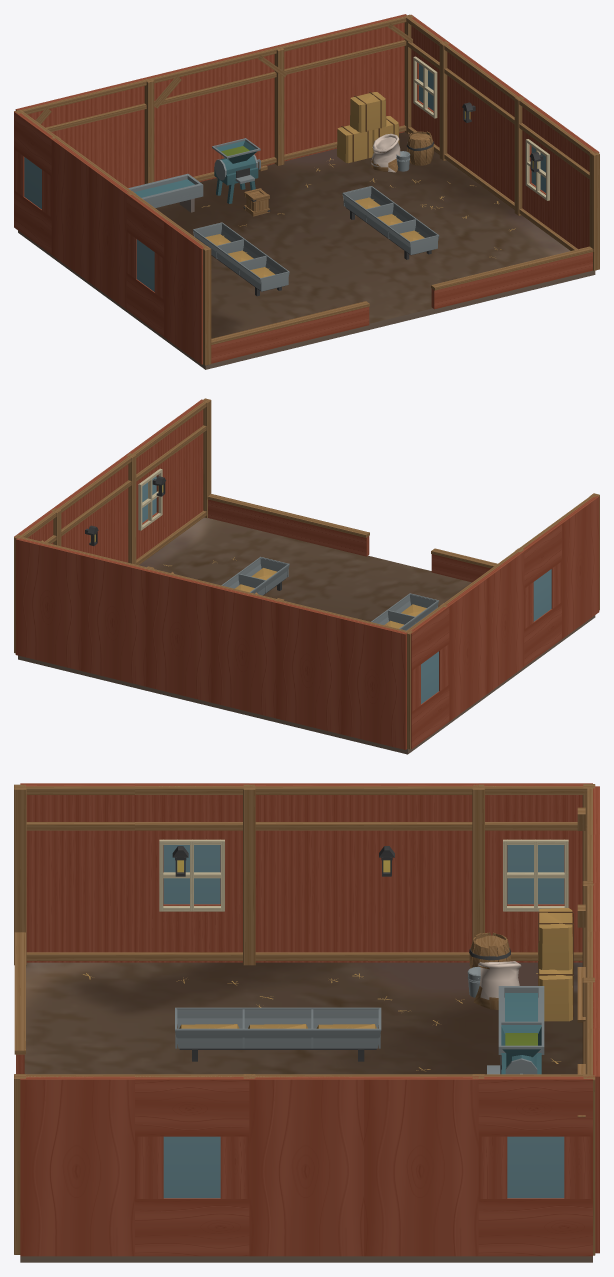
File: BarnInterior_Lv1.fbx
The picture shows the model from 3 angles, top to bottom: view 1: azimuth 30°, elevation 25°; view 2: azimuth 150°, elevation 25°; view 3: azimuth 270°, elevation 25°; orthographic projection. The views are drawn at different scales.
Parts seen in each view (by area): view 1: Lv1_Floor.001, Lv1_FrontCutaway.001, N01_Wall_2m.075, N01_Wall_2m.073, N01_Wall_2m.074, N01_Wall_2m.072, N01_Wall_2m.076, N01_Wall_2m.077, N01_Wall_2m.079, N01_Wall_2m.078, N01_WindowWall_2m.019, N01_WindowWall_2m.020 (+22 smaller); view 2: Lv1_Floor.001, N01_Wall_2m.071, N01_Wall_2m.075, N01_Wall_2m.073, N01_Wall_2m.072, N01_Wall_2m.076, N01_Wall_2m.074, Lv1_FrontCutaway.001, N01_Wall_2m.078, N01_WindowWall_2m.020, N01_Wall_2m.077, N01_Wall_2m.079 (+11 smaller); view 3: Lv1_Floor.001, N01_Wall_2m.081, N01_WindowWall_2m.021, N01_Wall_2m.082, N01_Wall_2m.080, N01_WindowWall_2m.022, N01_Wall_2m.077, N01_Wall_2m.078, N01_Wall_2m.079, N01_WindowWall_2m.019, N01_WindowWall_2m.020, FeedTrough_01.004 (+14 smaller).
Boxes of the visible parts, x1=… form: Lv1_Floor.001: x1=18, y1=132, x2=595, y2=369; Lv1_FrontCutaway.001: x1=211, y1=246, x2=593, y2=363; N01_Wall_2m.075: x1=276, y1=30, x2=344, y2=161; N01_Wall_2m.073: x1=146, y1=61, x2=214, y2=181; N01_Wall_2m.074: x1=211, y1=46, x2=276, y2=178; N01_Wall_2m.072: x1=81, y1=77, x2=146, y2=188; N01_Wall_2m.076: x1=341, y1=14, x2=407, y2=133; N01_Wall_2m.077: x1=164, y1=220, x2=206, y2=364; N01_Wall_2m.079: x1=51, y1=138, x2=95, y2=281; N01_Wall_2m.078: x1=89, y1=165, x2=130, y2=309; N01_WindowWall_2m.019: x1=126, y1=194, x2=170, y2=336; N01_WindowWall_2m.020: x1=14, y1=111, x2=56, y2=254; Lv1_Floor.001: x1=18, y1=517, x2=595, y2=754; N01_Wall_2m.071: x1=340, y1=615, x2=407, y2=749; N01_Wall_2m.075: x1=80, y1=552, x2=147, y2=686; N01_Wall_2m.073: x1=210, y1=584, x2=276, y2=718; N01_Wall_2m.072: x1=275, y1=600, x2=344, y2=733; N01_Wall_2m.076: x1=15, y1=537, x2=84, y2=670; N01_Wall_2m.074: x1=145, y1=569, x2=213, y2=702; Lv1_FrontCutaway.001: x1=207, y1=494, x2=497, y2=582; N01_Wall_2m.078: x1=480, y1=551, x2=524, y2=693; N01_WindowWall_2m.020: x1=407, y1=606, x2=449, y2=749; N01_Wall_2m.077: x1=555, y1=495, x2=599, y2=638; N01_Wall_2m.079: x1=444, y1=577, x2=486, y2=721; Lv1_Floor.001: x1=20, y1=962, x2=592, y2=1262; N01_Wall_2m.081: x1=249, y1=1074, x2=363, y2=1256; N01_WindowWall_2m.021: x1=135, y1=1074, x2=249, y2=1256; N01_Wall_2m.082: x1=364, y1=1074, x2=478, y2=1256; N01_Wall_2m.080: x1=20, y1=1074, x2=134, y2=1256; N01_WindowWall_2m.022: x1=478, y1=1074, x2=592, y2=1256; N01_Wall_2m.077: x1=20, y1=783, x2=134, y2=962; N01_Wall_2m.078: x1=249, y1=783, x2=363, y2=962; N01_Wall_2m.079: x1=364, y1=783, x2=478, y2=962; N01_WindowWall_2m.019: x1=135, y1=783, x2=249, y2=962; N01_WindowWall_2m.020: x1=478, y1=783, x2=592, y2=962; FeedTrough_01.004: x1=175, y1=1007, x2=381, y2=1061.
Bounding box in the file's own units: 12.26 × 3.58 × 10.23.
